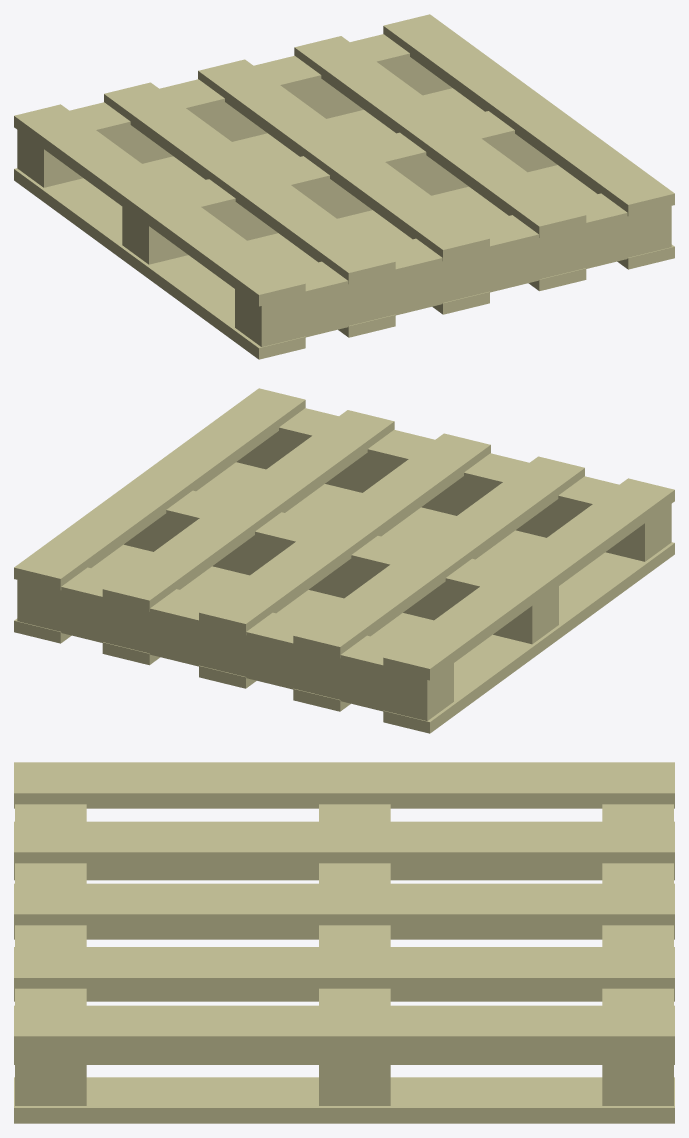
The model's file is Empty Pallet Skid.fbx.
3 renders of one model, top to bottom at view 1: azimuth 30°, elevation 25°; view 2: azimuth 150°, elevation 25°; view 3: azimuth 270°, elevation 25°, orthographic. The views are drawn at different scales.
Parts seen in each view (by area): view 1: palette_empty; view 2: palette_empty; view 3: palette_empty.
Part boxes in pixels (x1,y1,x2,y2): palette_empty: (14, 14, 674, 359); palette_empty: (14, 388, 674, 733); palette_empty: (14, 762, 674, 1123).
Size of the model in its own units: 1.05 by 0.1559 by 1.07.
